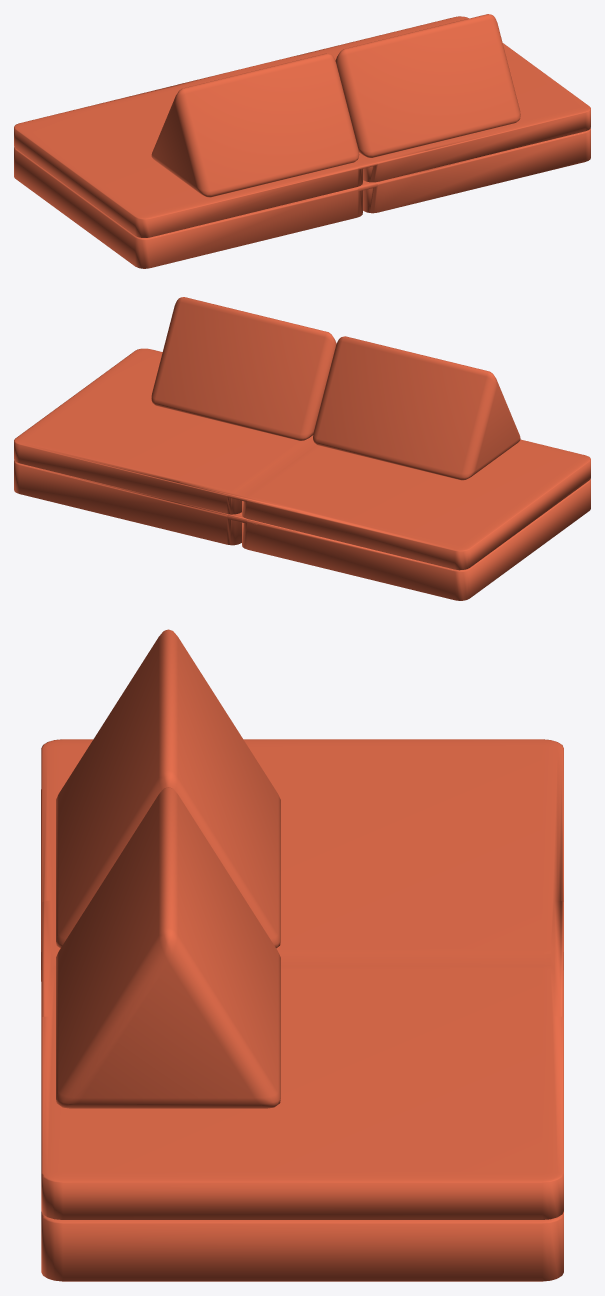
Rendered from nugget.gltf.
3 renders of one model, top to bottom at view 1: azimuth 30°, elevation 25°; view 2: azimuth 150°, elevation 25°; view 3: azimuth 270°, elevation 25°, orthographic. The views are drawn at different scales.
Visible parts, largest first — view 1: Nuggets; view 2: Nuggets; view 3: Nuggets.
Part boxes in pixels (bbox=[...]): Nuggets: bbox=[14, 14, 590, 268]; Nuggets: bbox=[14, 297, 590, 600]; Nuggets: bbox=[41, 629, 563, 1281].
Bounding box in the file's own units: 2.17 × 0.6471 × 1.08.
